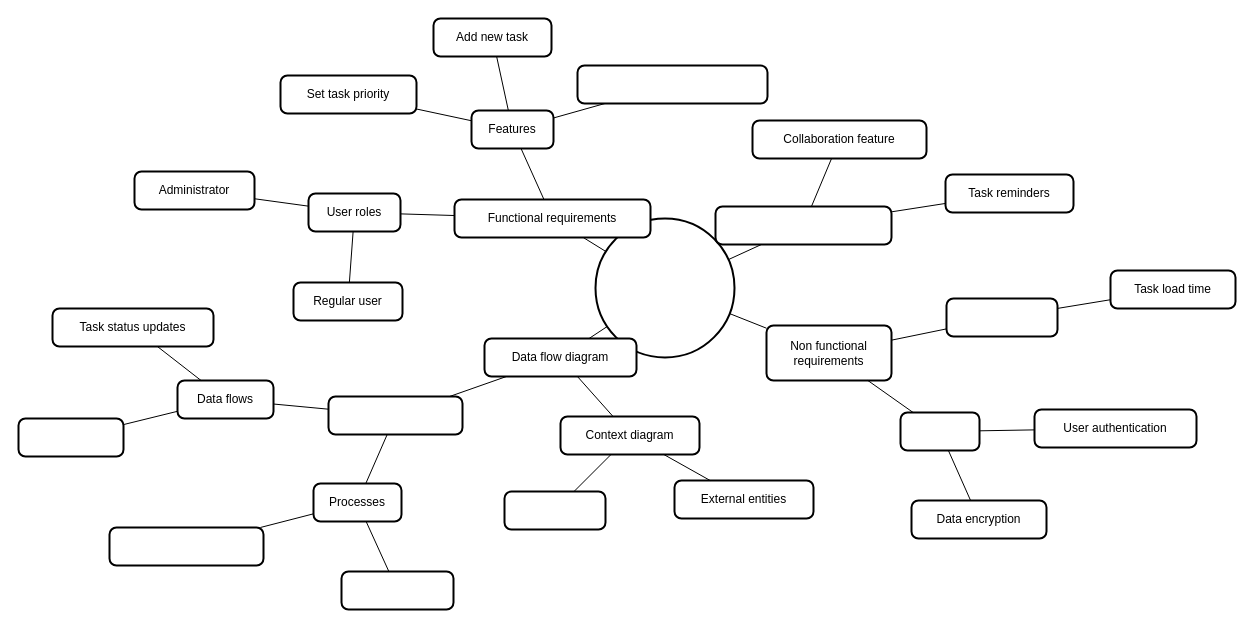
This 1253x627 diagram has some shape labels left out. Each missing label, with the box of its shape:
Capture task: (340, 570, 454, 610)
Data stores: (503, 490, 606, 530)
dfd for to do list: (594, 217, 735, 358)
Future enhancements: (714, 205, 892, 245)
Level 0 diagram: (327, 395, 463, 435)
Mark task as completed: (576, 64, 768, 104)
Performance: (945, 297, 1058, 337)
Security: (899, 411, 980, 451)
Task details: (17, 417, 124, 457)
Update task status: (108, 526, 264, 566)
